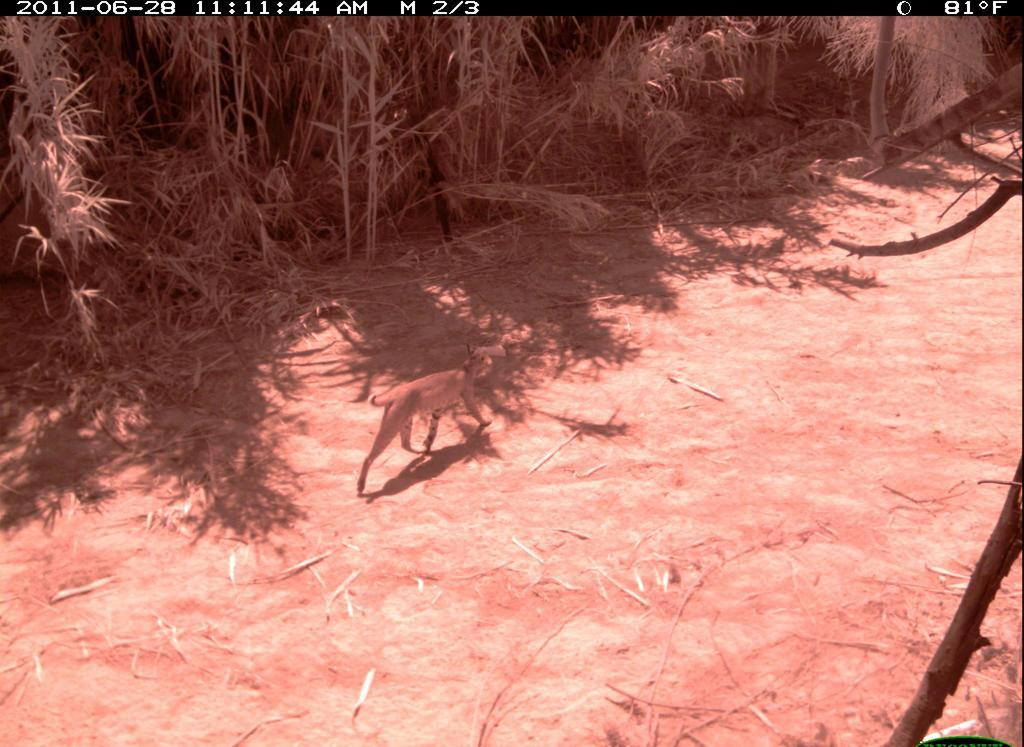bobcat: (354, 338, 502, 502)
